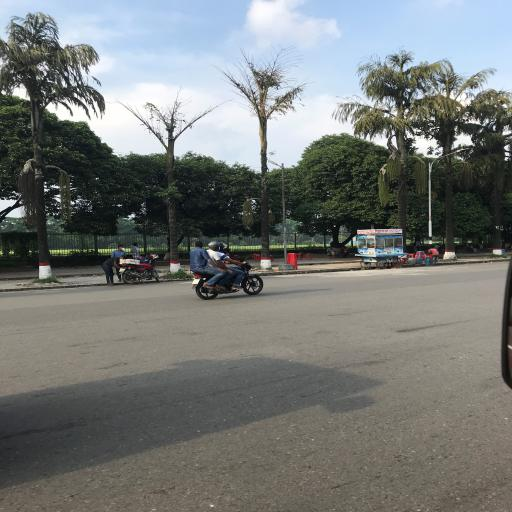motorbike: (189, 241, 267, 302), (121, 255, 164, 287)
